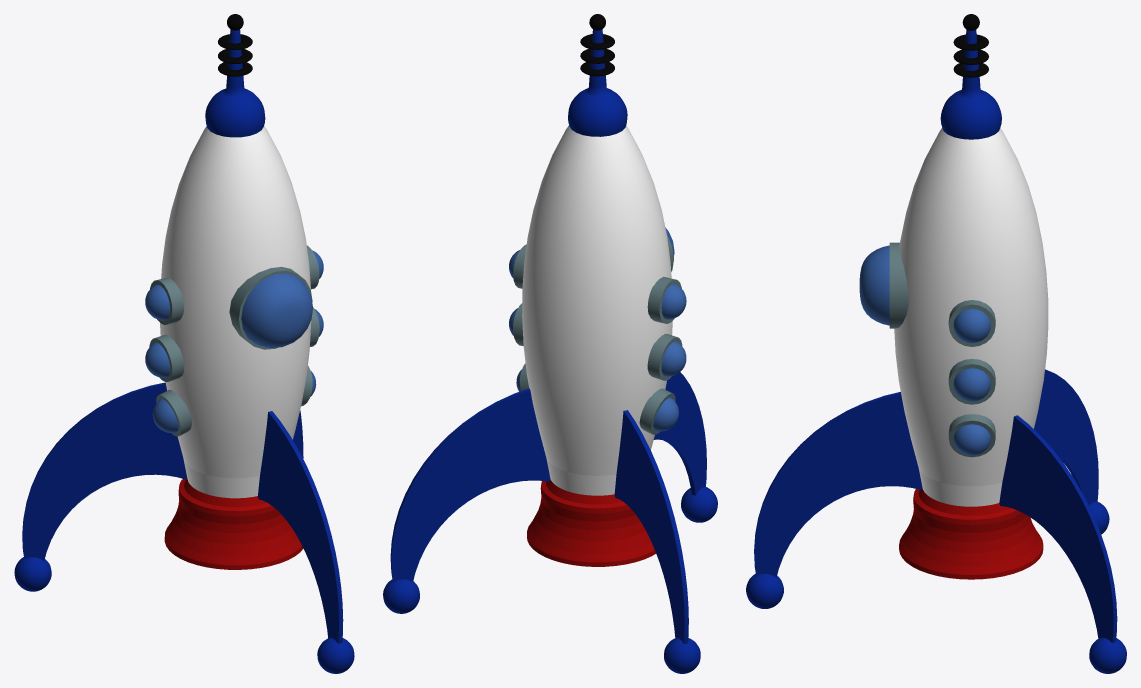
File: rocket.obj
3 renders of one model, left to right at view 1: azimuth 30°, elevation 25°; view 2: azimuth 150°, elevation 25°; view 3: azimuth 270°, elevation 25°, orthographic. The views are drawn at different scales.
Parts seen in each view (by area): view 1: polySurface23; view 2: polySurface23; view 3: polySurface23.
Part boxes in pixels (bbox=[...]): polySurface23: bbox=[14, 14, 354, 673]; polySurface23: bbox=[383, 14, 717, 673]; polySurface23: bbox=[746, 14, 1126, 673].
Bounding box in the file's own units: 9.51 × 17.33 × 10.09.
